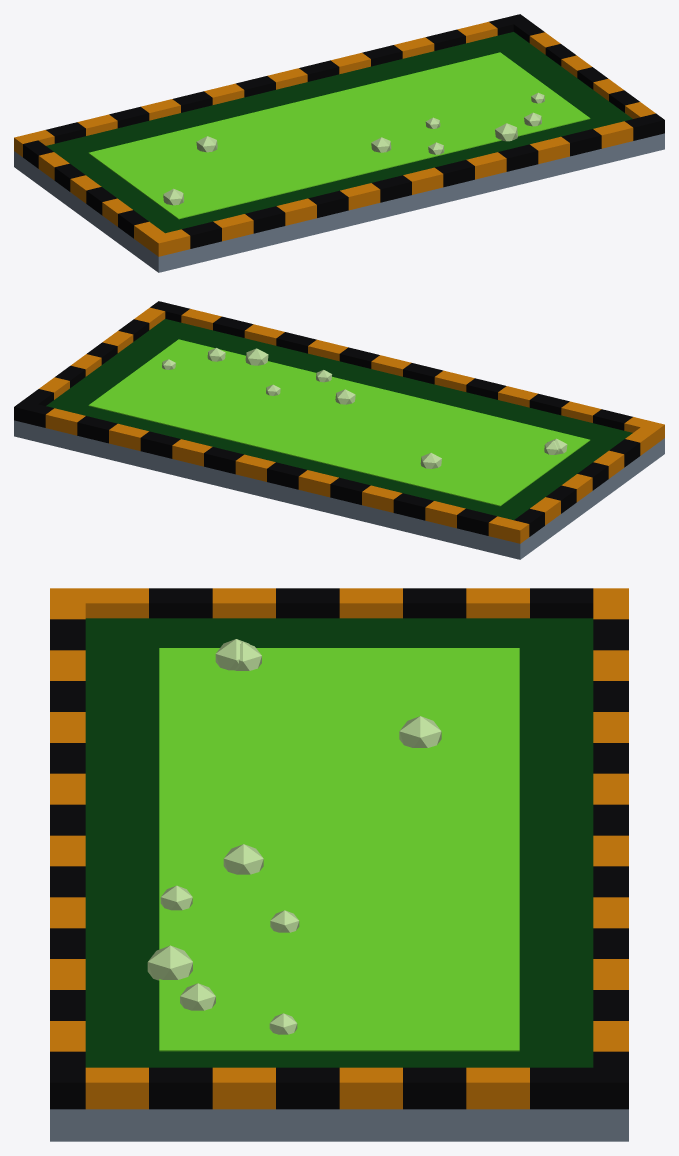
File: SM_Acid_Pool_4x2.glb
3 renders of one model, top to bottom at view 1: azimuth 30°, elevation 25°; view 2: azimuth 150°, elevation 25°; view 3: azimuth 270°, elevation 25°, orthographic. The views are drawn at different scales.
Parts seen in each view (by area): view 1: SM_Acid_Pool_4x2-col; view 2: SM_Acid_Pool_4x2-col; view 3: SM_Acid_Pool_4x2-col.
Boxes of the visible parts, x1,y1,x2,y2 form: SM_Acid_Pool_4x2-col: (14,14,664,272); SM_Acid_Pool_4x2-col: (14,301,664,559); SM_Acid_Pool_4x2-col: (50,588,628,1141).
Bounding box in the file's own units: 3.96 × 0.2653 × 1.96.
